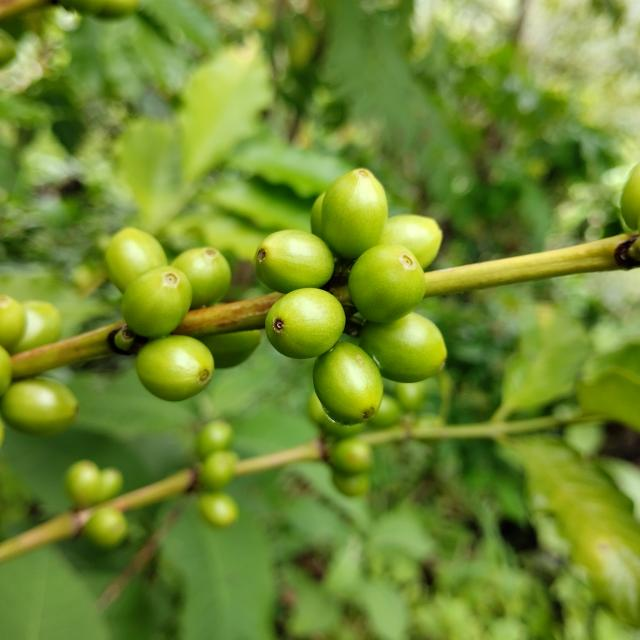green: (360, 312, 447, 383), (349, 244, 426, 323), (322, 168, 388, 259), (313, 342, 383, 426), (265, 288, 346, 359), (121, 265, 192, 339), (135, 336, 214, 402), (254, 229, 334, 293), (0, 378, 78, 436), (104, 227, 167, 293), (171, 247, 231, 309), (379, 214, 443, 269), (200, 330, 261, 369), (622, 162, 640, 229), (311, 192, 326, 239)
